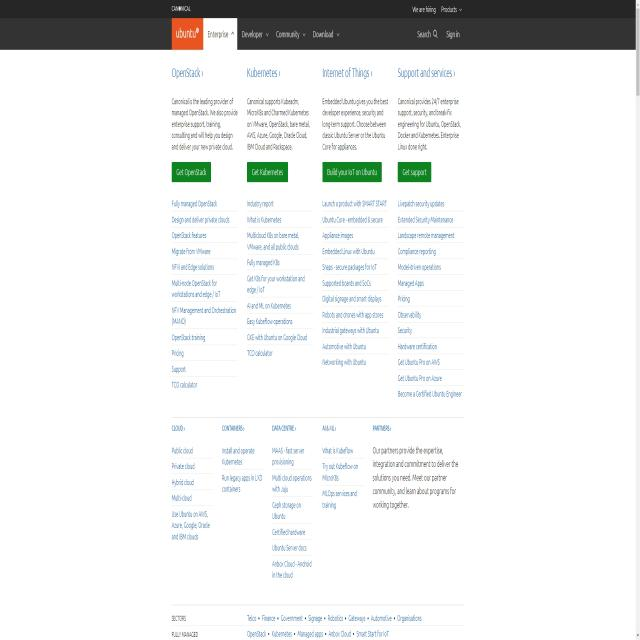menu-bar: (410, 20, 464, 50), (408, 4, 463, 15)
tab-bar: (170, 16, 340, 49)
